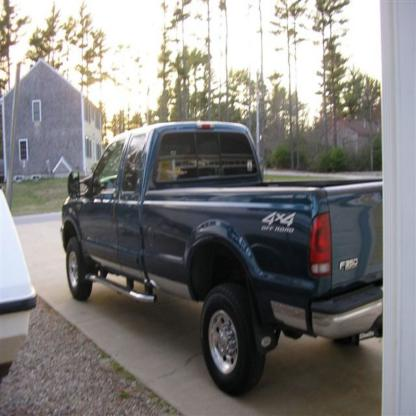Truck: (60, 121, 382, 396)
